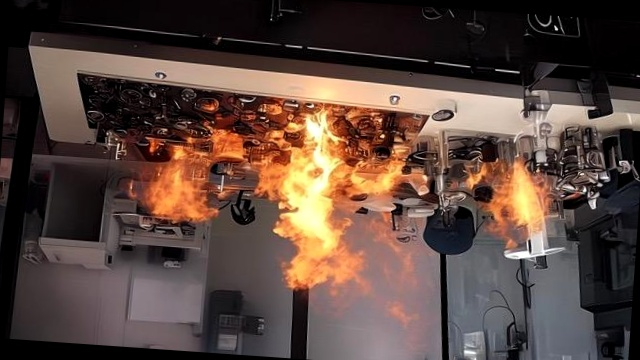fire: (100, 87, 414, 297), (475, 157, 554, 251)
